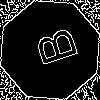B: (25, 25, 79, 72)
